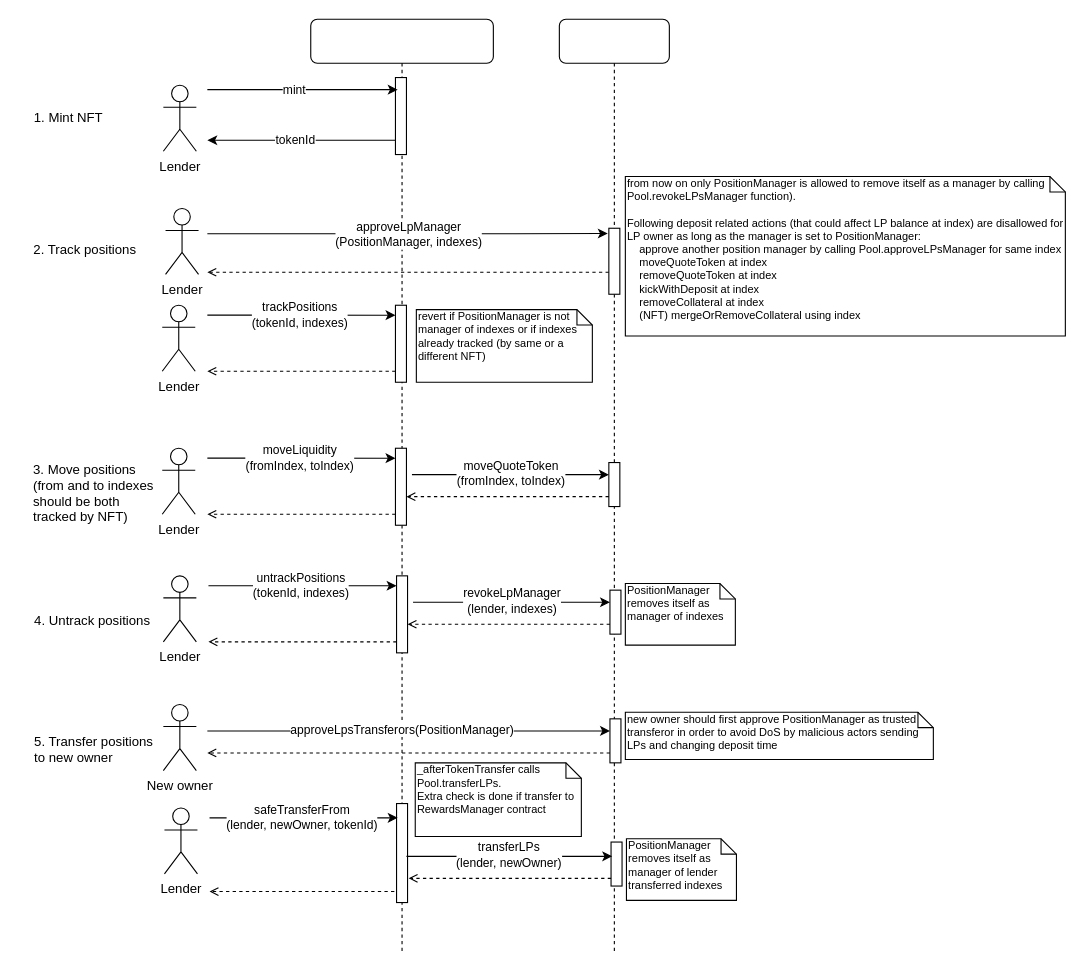
This 1085x974 diagram has some shape labels left out. Each missing label, with the centre of its shape:
"Pool" belongs at pixel 613 486.
"PositionManager" belongs at pixel 401 486.
